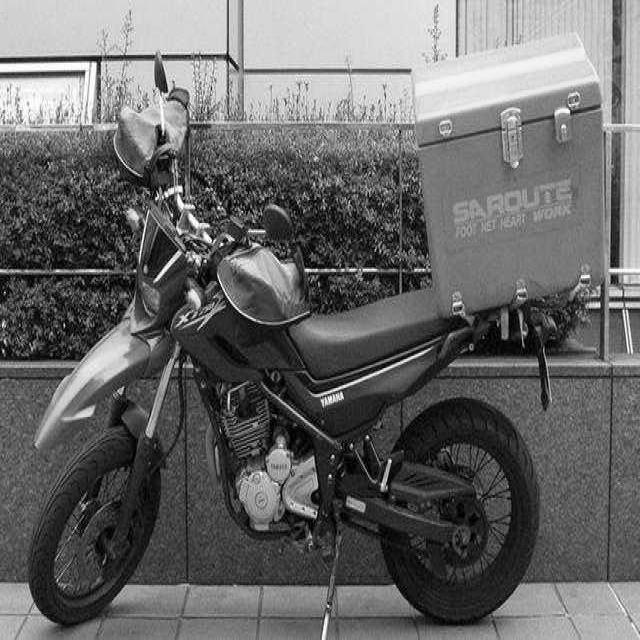Motorcycle: (29, 34, 604, 624)
